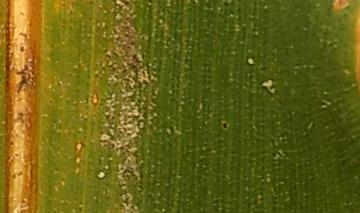tarspot: (221, 118, 230, 133)
